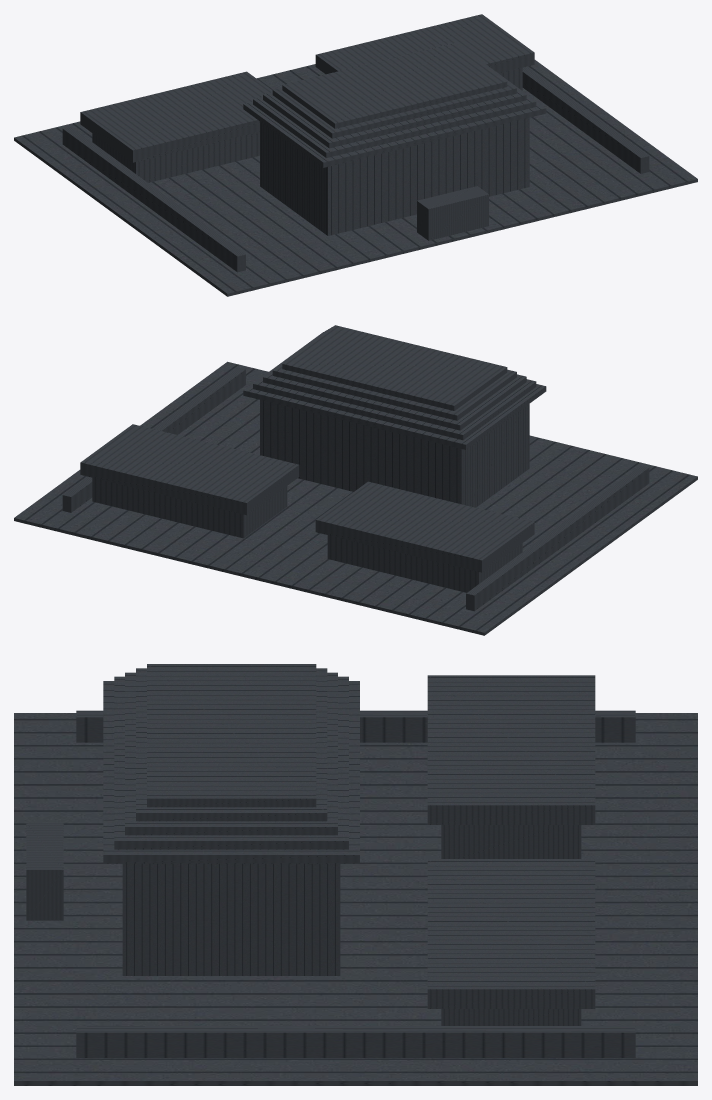
3 views of the same model, one above another, from view 1: azimuth 30°, elevation 25°; view 2: azimuth 150°, elevation 25°; view 3: azimuth 270°, elevation 25° (orthographic). The views are drawn at different scales.
Visible parts, largest first — view 1: 28185_01_21998_006_03_lod2__roof_mass, 28185_01_21998_006_01_lod2__courtyard_base, 28185_01_21998_006_02_lod2__pavilion_mass, 28185_01_21998_006_04_lod2__gate_wall; view 2: 28185_01_21998_006_03_lod2__roof_mass, 28185_01_21998_006_01_lod2__courtyard_base, 28185_01_21998_006_02_lod2__pavilion_mass, 28185_01_21998_006_04_lod2__gate_wall; view 3: 28185_01_21998_006_01_lod2__courtyard_base, 28185_01_21998_006_03_lod2__roof_mass, 28185_01_21998_006_02_lod2__pavilion_mass, 28185_01_21998_006_04_lod2__gate_wall.
Boxes of the visible parts, x1,y1,x2,y2 form: 28185_01_21998_006_03_lod2__roof_mass: (80,14,546,167); 28185_01_21998_006_01_lod2__courtyard_base: (14,60,697,296); 28185_01_21998_006_02_lod2__pavilion_mass: (92,67,529,235); 28185_01_21998_006_04_lod2__gate_wall: (62,66,649,272); 28185_01_21998_006_03_lod2__roof_mass: (80,325,546,572); 28185_01_21998_006_01_lod2__courtyard_base: (14,361,697,635); 28185_01_21998_006_02_lod2__pavilion_mass: (92,400,529,592); 28185_01_21998_006_04_lod2__gate_wall: (62,367,649,611); 28185_01_21998_006_01_lod2__courtyard_base: (14,713,697,1085); 28185_01_21998_006_03_lod2__roof_mass: (103,664,595,1008); 28185_01_21998_006_02_lod2__pavilion_mass: (122,825,581,1025); 28185_01_21998_006_04_lod2__gate_wall: (26,710,635,1057).
Size of the model in its own units: 56 by 12.1 by 44.
4 materials, 4 textured.
